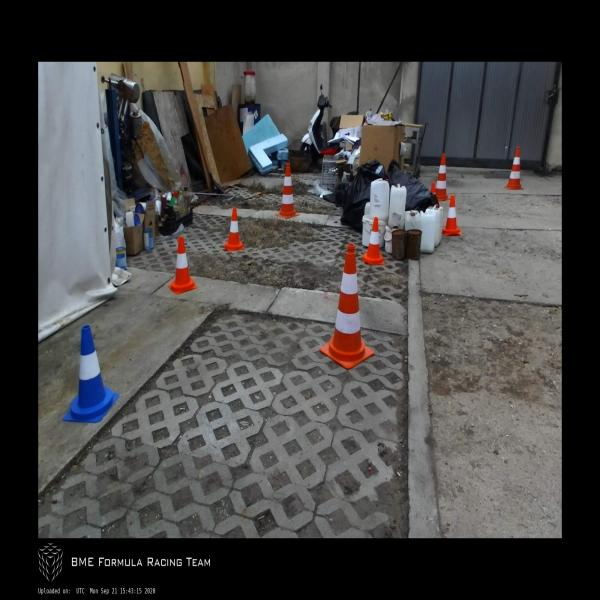blue_cone: (63, 325, 119, 422)
large_orange_cone: (320, 244, 374, 368), (275, 164, 299, 218), (505, 147, 523, 190), (435, 154, 451, 200)
orange_cone: (168, 236, 197, 294), (362, 217, 385, 265), (224, 208, 245, 251), (442, 196, 462, 236)
